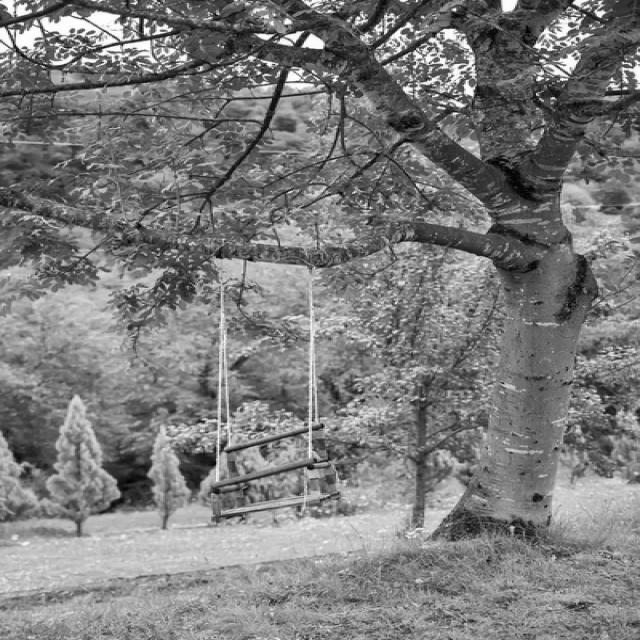Tree: (1, 0, 640, 538), (40, 396, 120, 537), (147, 426, 190, 530)
